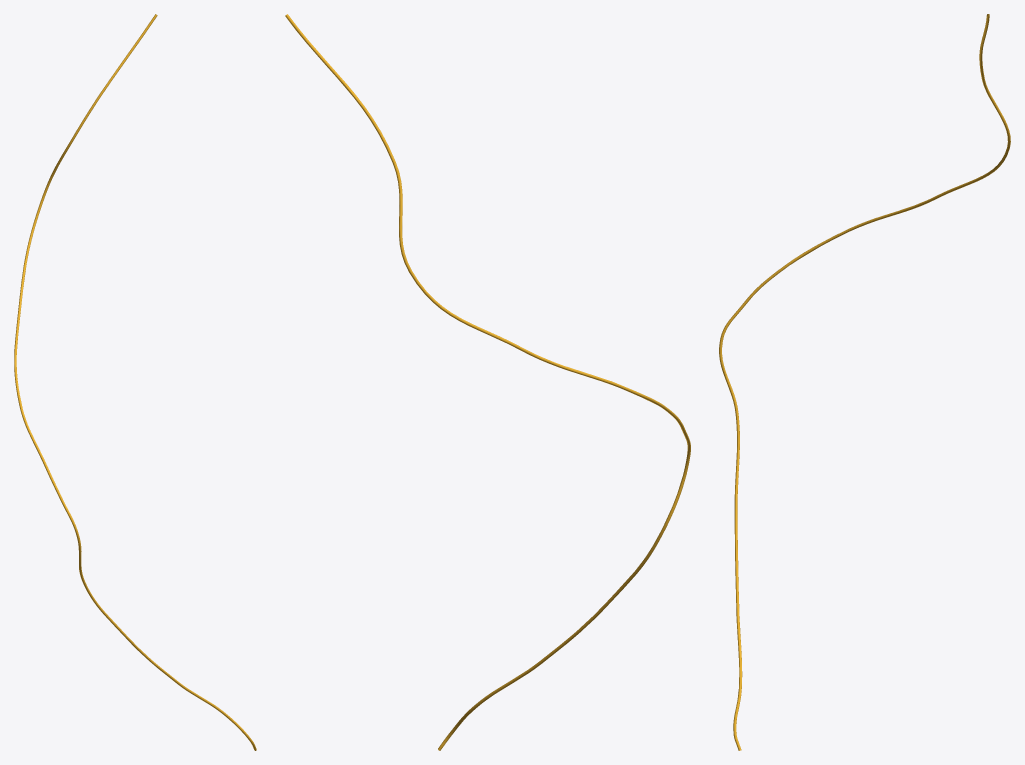
Rendered from nervoso-ilio-inguinal-nerve-r.glb.
The picture shows the model from 3 angles, left to right: view 1: azimuth 30°, elevation 25°; view 2: azimuth 150°, elevation 25°; view 3: azimuth 270°, elevation 25°; orthographic projection. The views are drawn at different scales.
Parts seen in each view (by area): view 1: Ilio-inguinal nerve.r; view 2: Ilio-inguinal nerve.r; view 3: Ilio-inguinal nerve.r.
Part boxes in pixels (box(x1,y1,x2,y2)): Ilio-inguinal nerve.r: box(14, 14, 256, 750); Ilio-inguinal nerve.r: box(285, 14, 690, 750); Ilio-inguinal nerve.r: box(719, 14, 1010, 750).
Size of the model in its own units: 0.0916 by 0.2747 by 0.0978.
